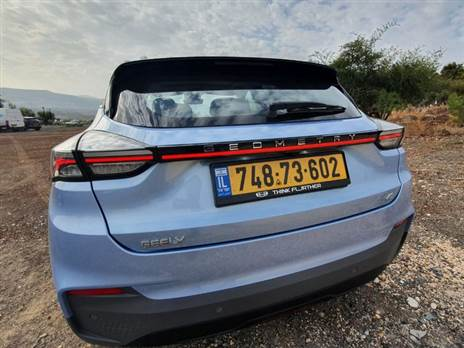licence: (208, 148, 353, 209)
